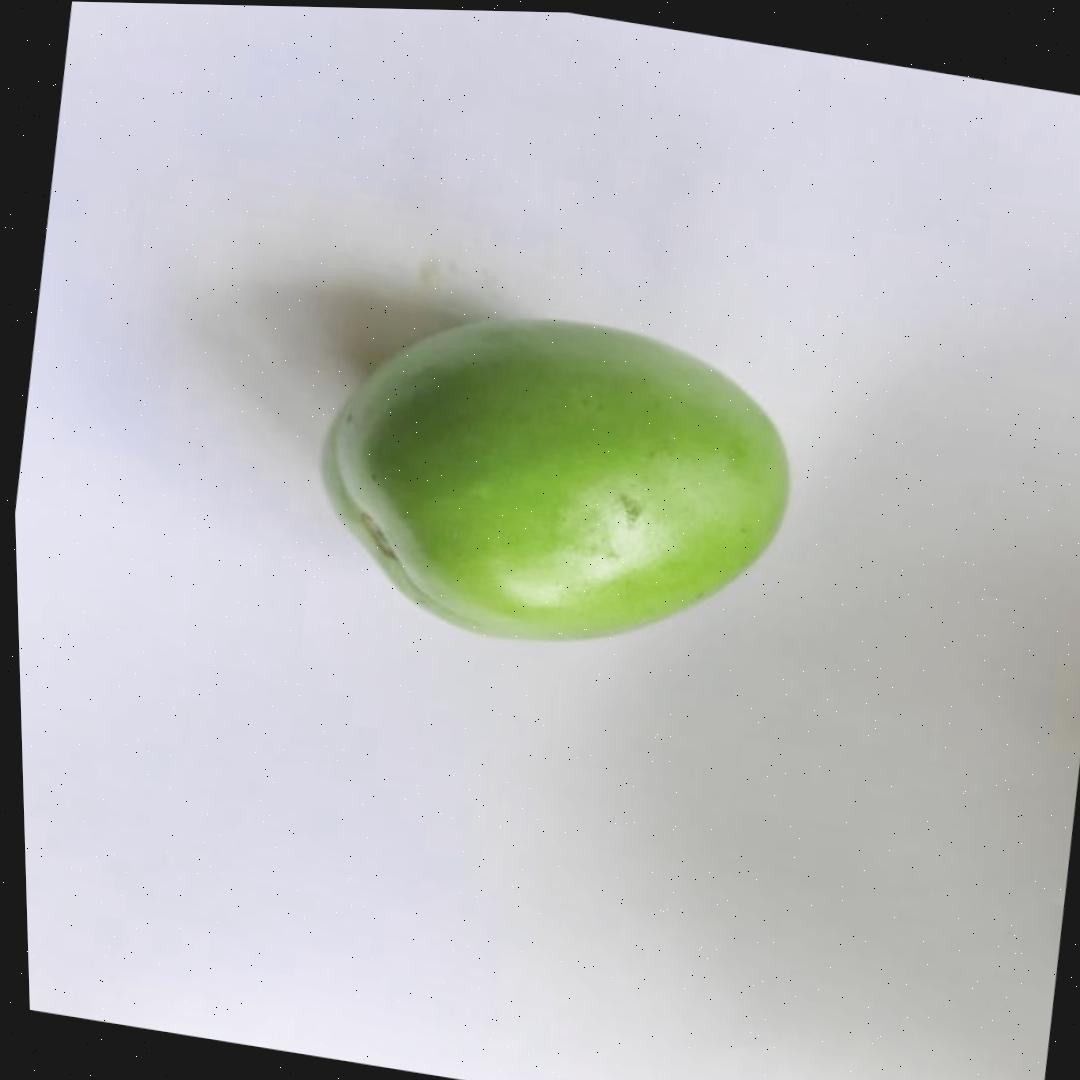mentah: (290, 275, 818, 688)
